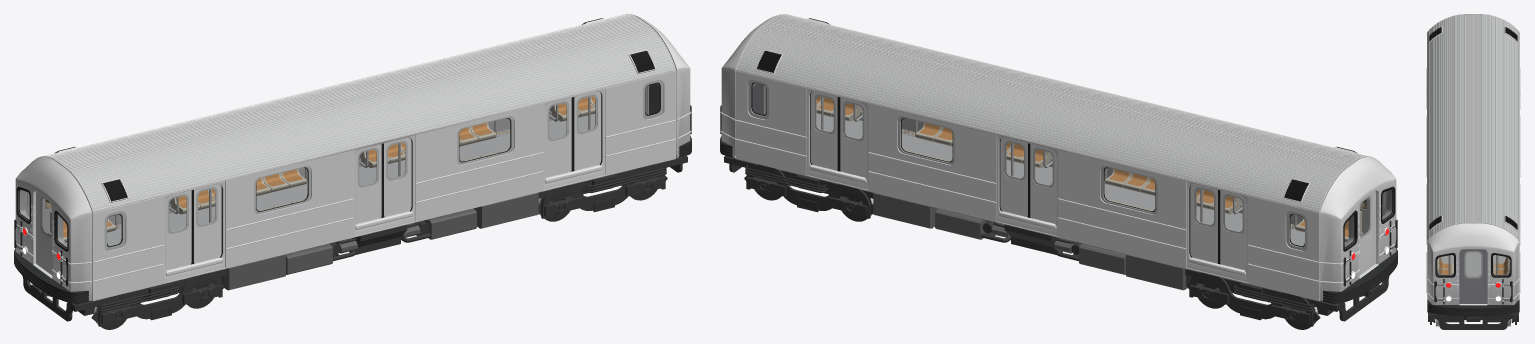
Rendered from subway_car_r62a.glb.
3 views of the same model, side by side, from view 1: azimuth 30°, elevation 25°; view 2: azimuth 150°, elevation 25°; view 3: azimuth 270°, elevation 25° (orthographic). The views are drawn at different scales.
Parts seen in each view (by area): view 1: SubwayCar, Door1; view 2: SubwayCar, Door1; view 3: SubwayCar, Door2.
Boxes of the visible parts, x1,y1,x2,y2 form: SubwayCar: [14, 14, 691, 329]; Door1: [36, 191, 52, 275]; SubwayCar: [720, 14, 1397, 329]; Door1: [1359, 191, 1375, 275]; SubwayCar: [1426, 14, 1520, 329]; Door2: [1459, 249, 1487, 303].
Size of the model in its own units: 4530 by 1036 by 787.
